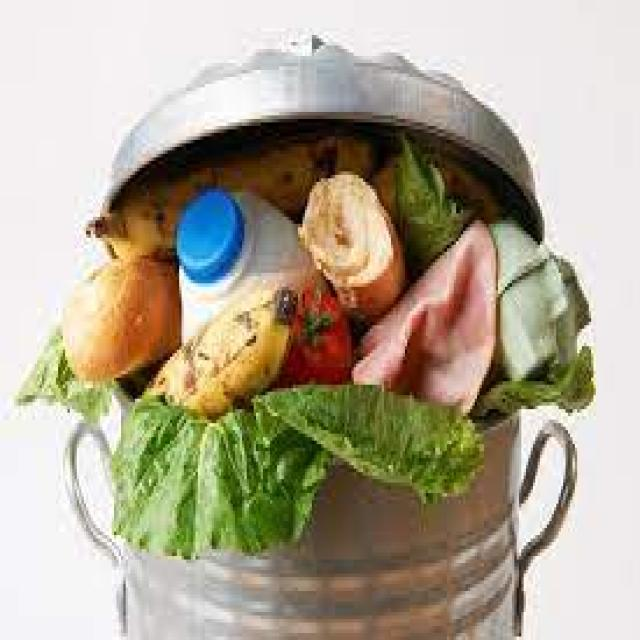Organik: (80, 108, 405, 270), (360, 143, 529, 410), (487, 182, 603, 390), (298, 165, 410, 312), (52, 262, 184, 380)
